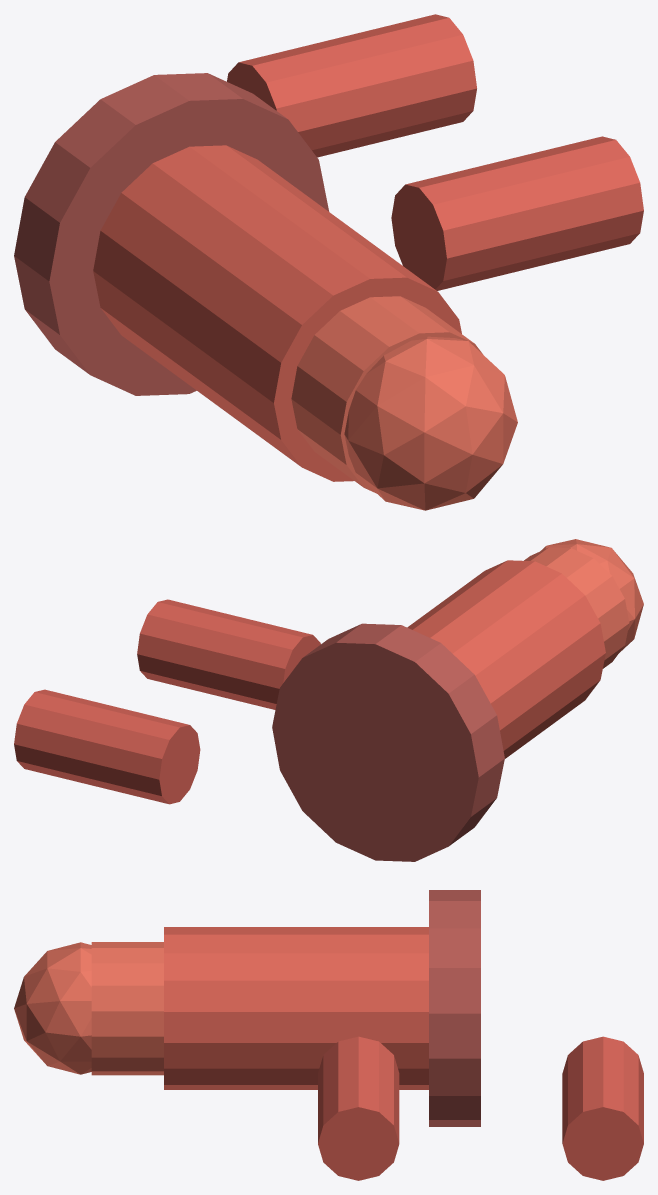
File: fire_hydrant.glb
The picture shows the model from 3 angles, top to bottom: view 1: azimuth 30°, elevation 25°; view 2: azimuth 150°, elevation 25°; view 3: azimuth 270°, elevation 25°; orthographic projection. The views are drawn at different scales.
Parts seen in each view (by area): view 1: hydrant_body, hydrant_base, hydrant_side_left, hydrant_dome, hydrant_side_right, hydrant_top_cap; view 2: hydrant_base, hydrant_body, hydrant_side_right, hydrant_side_left, hydrant_top_cap, hydrant_dome; view 3: hydrant_body, hydrant_base, hydrant_side_left, hydrant_side_right, hydrant_top_cap, hydrant_dome.
Boxes of the visible parts, box(x1,y1,x2,y2) form: hydrant_body: box(93, 145, 461, 481); hydrant_base: box(14, 73, 329, 395); hydrant_side_left: box(391, 136, 643, 290); hydrant_dome: box(344, 336, 517, 510); hydrant_side_right: box(227, 14, 476, 157); hydrant_top_cap: box(291, 296, 482, 493); hydrant_base: box(272, 623, 504, 861); hydrant_body: box(407, 560, 605, 758); hydrant_side_right: box(14, 689, 200, 804); hydrant_side_left: box(137, 599, 320, 709); hydrant_top_cap: box(524, 547, 629, 668); hydrant_dome: box(541, 539, 643, 652); hydrant_body: box(164, 927, 428, 1089); hydrant_base: box(429, 890, 480, 1126); hydrant_side_left: box(318, 1036, 399, 1180); hydrant_side_right: box(562, 1036, 643, 1180); hydrant_top_cap: box(91, 942, 163, 1075); hydrant_dome: box(14, 942, 91, 1074).
Bounding box in the file's own units: 1.19 × 0.64 × 1.7.
